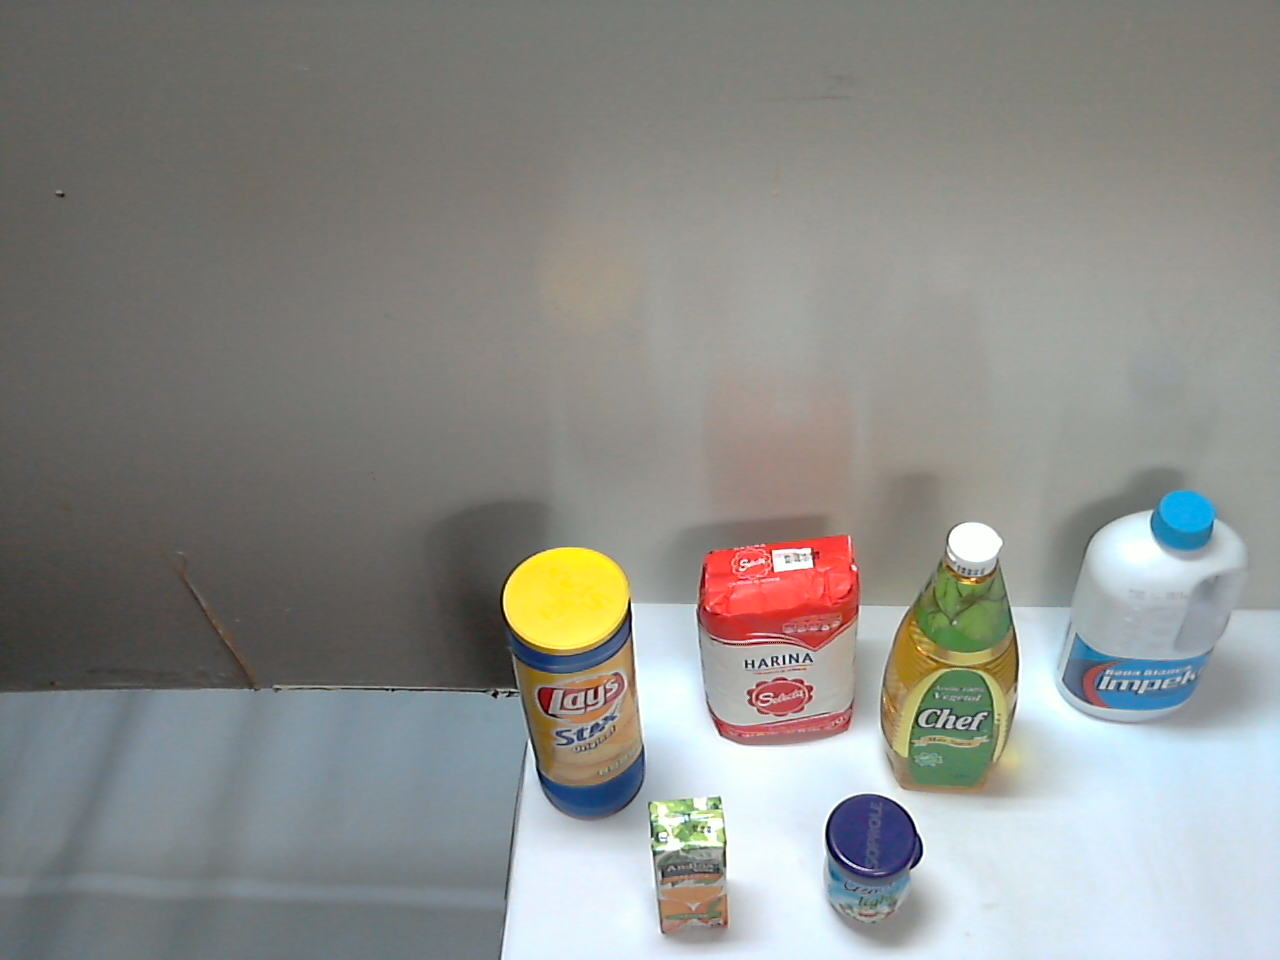balsamo: (739, 536, 851, 767)
cloro: (558, 532, 719, 782)
confort: (970, 494, 1280, 895)
crema: (861, 791, 977, 936)
jugoind: (669, 744, 761, 897)
yogurt: (855, 511, 985, 806)
